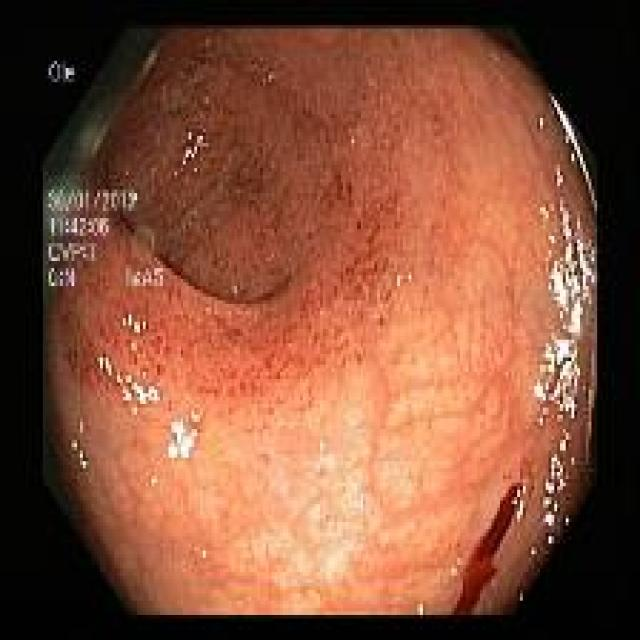ulcerative-colitis: (45, 31, 596, 615)
